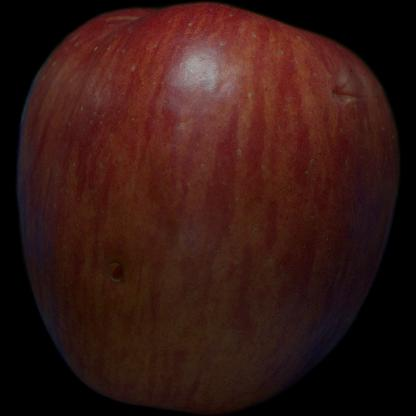defect: (89, 231, 156, 306), (319, 66, 377, 120)
